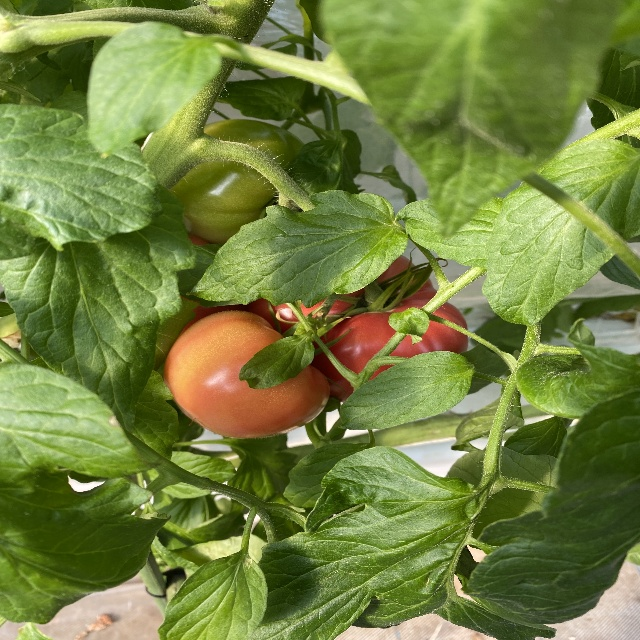b_fully_ripened: (245, 254, 470, 402)
b_green: (166, 119, 306, 245)
b_half_ripened: (162, 309, 331, 438)
